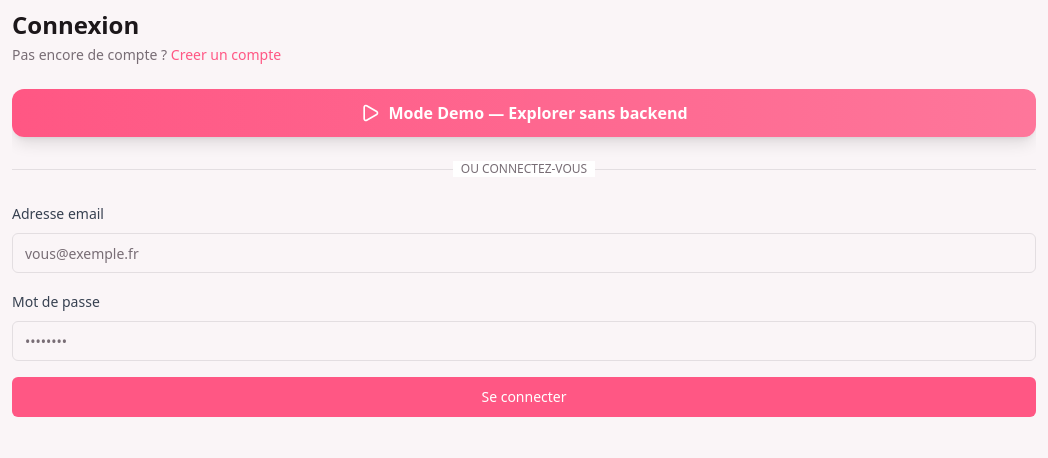
Scenario: LoginPage › shows validation error when password is empty
This screenshot has width=1048, height=458.
Type "test@example.com" into the field labelled "Adresse email" at point(524, 253), box [12,233,1036,273]
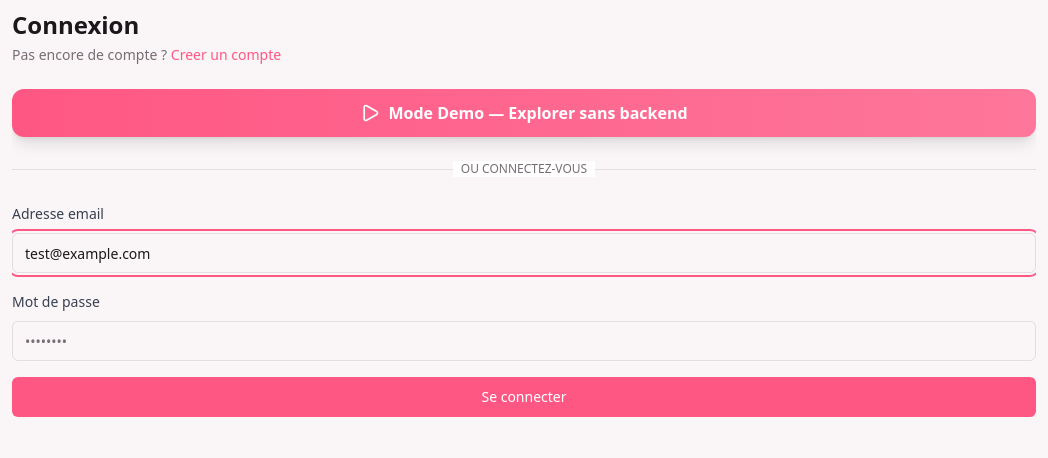
Click the button "Se connecter" at point(524, 397), box [12,377,1036,417]
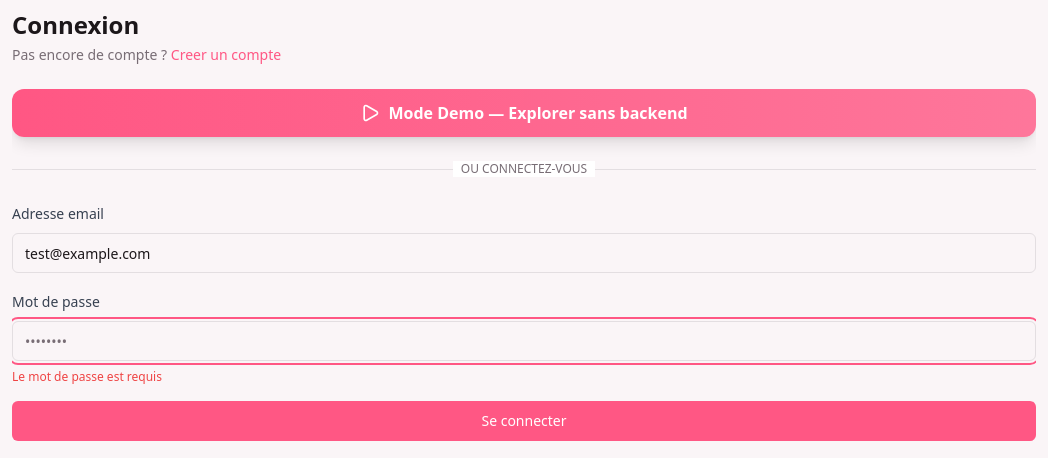
Check: the text "Le mot de passe est requis" is shown, box [12,368,162,385]
